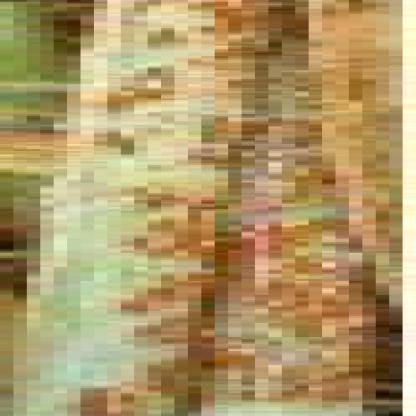wheat Stem Rust: (107, 10, 354, 415)
